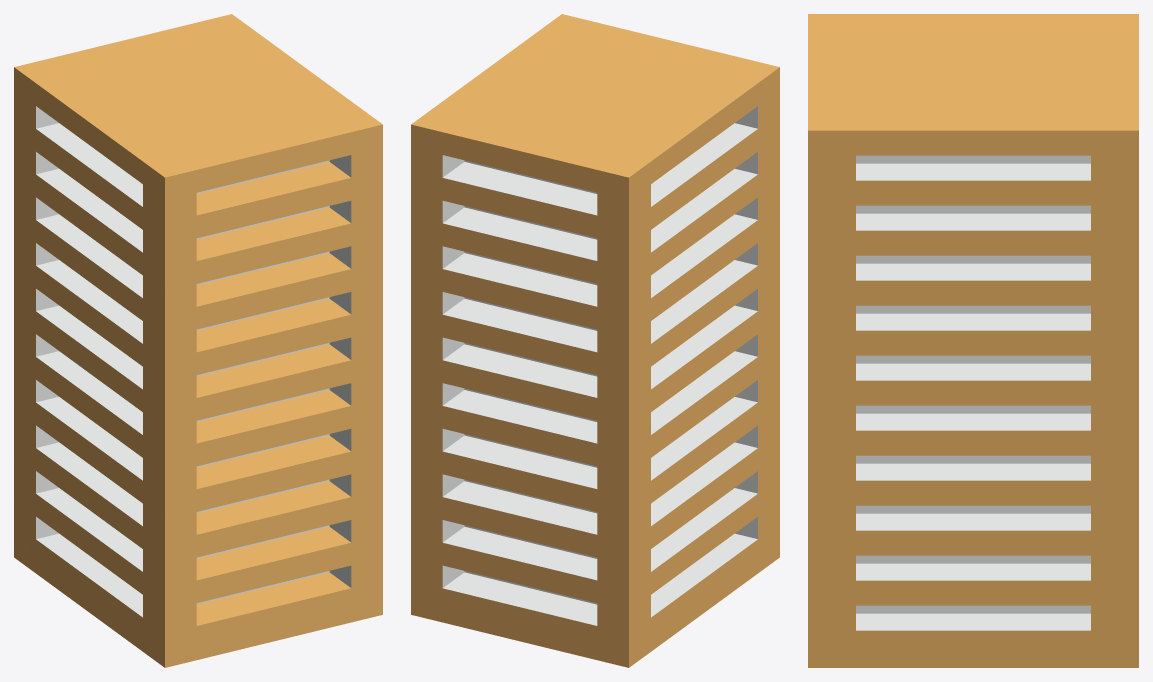
File: Skyscraper.fbx
3 renders of one model, left to right at view 1: azimuth 30°, elevation 25°; view 2: azimuth 150°, elevation 25°; view 3: azimuth 270°, elevation 25°, orthographic. The views are drawn at different scales.
Visible parts, largest first — view 1: Cube; view 2: Cube; view 3: Cube.
Part boxes in pixels (x1=…): Cube: x1=14, y1=14, x2=382, y2=667; Cube: x1=411, y1=14, x2=779, y2=667; Cube: x1=808, y1=14, x2=1138, y2=667.
Size of the model in its own units: 2000 by 4300 by 2400.
